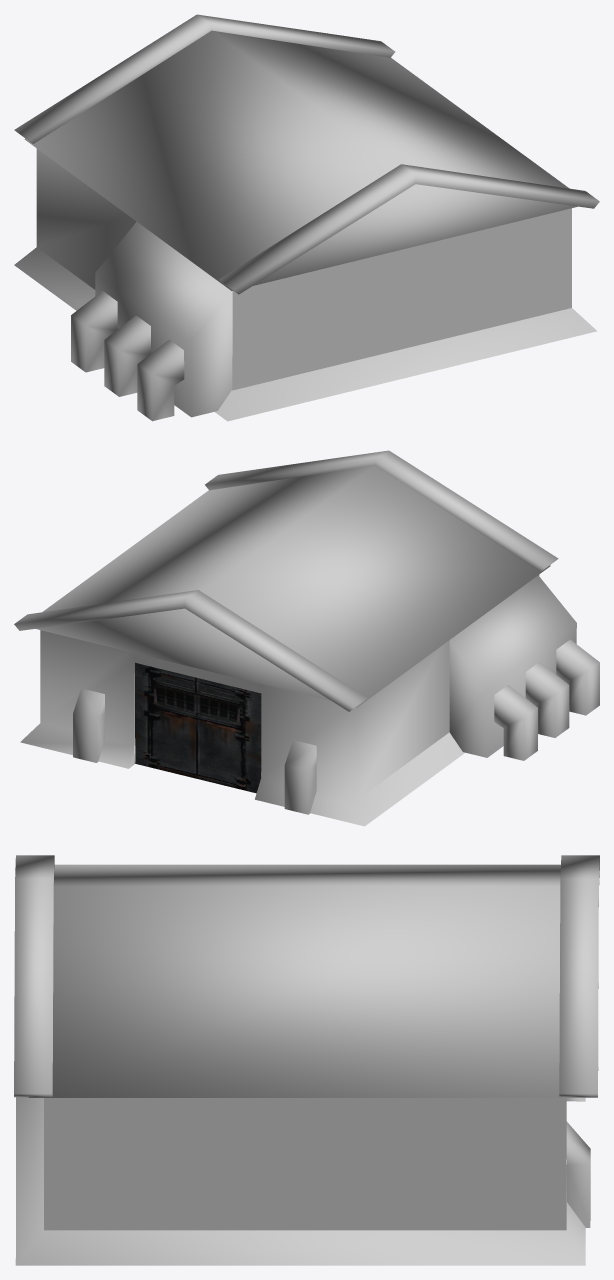
The model's file is Build1.FBX.
3 views of the same model, one above another, from view 1: azimuth 30°, elevation 25°; view 2: azimuth 150°, elevation 25°; view 3: azimuth 270°, elevation 25° (orthographic). The views are drawn at different scales.
Parts seen in each view (by area): view 1: Box01-FACES06; view 2: Box01-FACES06; view 3: Box01-FACES06.
Boxes of the visible parts, bbox=[...] form: Box01-FACES06: bbox=[14, 14, 599, 421]; Box01-FACES06: bbox=[14, 450, 599, 826]; Box01-FACES06: bbox=[14, 855, 599, 1265].
Bounding box in the file's own units: 8.82 × 3.96 × 7.83.
